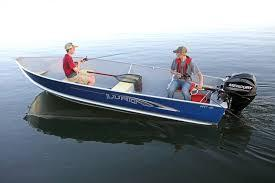fishing boat: (14, 41, 260, 127)
